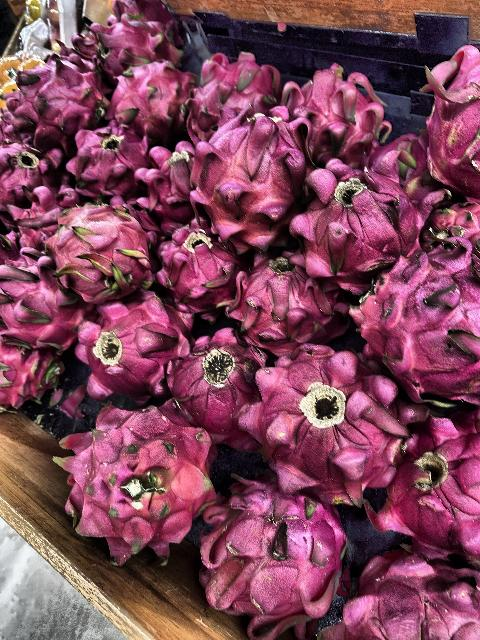buah-naga-belum-matang: (46, 206, 152, 298)
buah-naga-matang: (64, 388, 220, 568), (242, 349, 412, 503), (202, 481, 357, 624), (348, 255, 480, 402), (178, 104, 302, 246), (301, 156, 426, 288), (386, 410, 480, 558), (348, 540, 480, 640), (230, 249, 340, 357), (274, 64, 384, 164), (76, 296, 192, 389), (1, 58, 124, 144), (410, 51, 480, 198), (149, 210, 235, 314), (187, 54, 281, 140), (57, 129, 154, 203), (104, 59, 194, 137), (0, 262, 84, 341), (90, 18, 172, 82), (0, 146, 76, 208)
